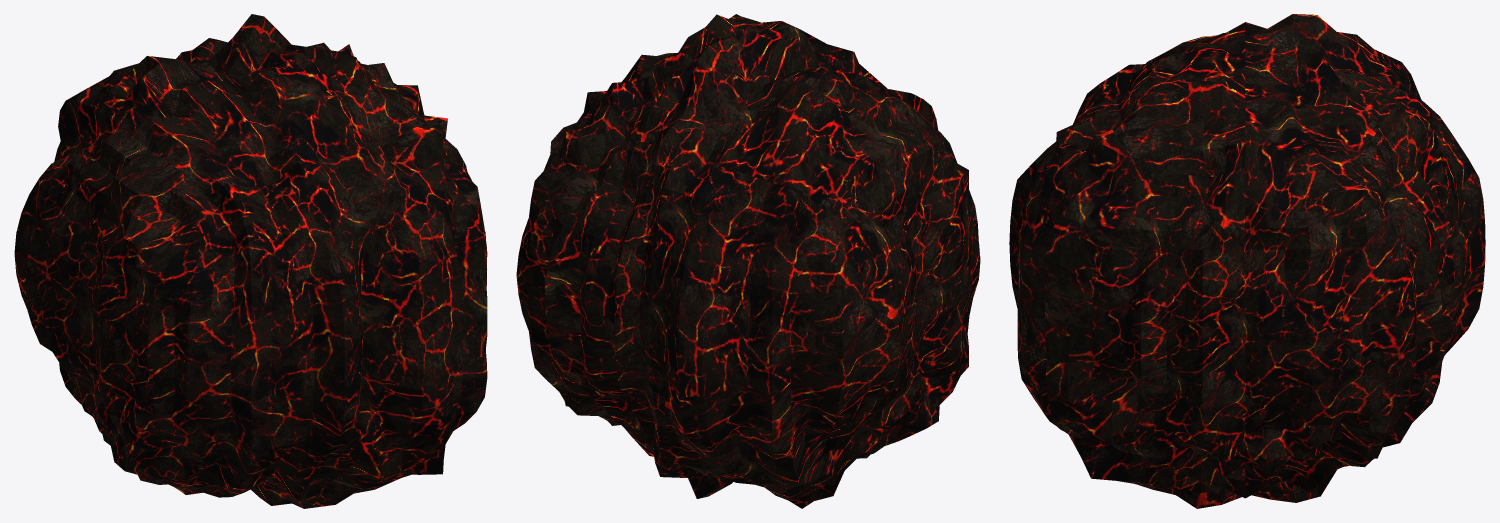
File: asteroid11.obj
3 views of the same model, side by side, from view 1: azimuth 30°, elevation 25°; view 2: azimuth 150°, elevation 25°; view 3: azimuth 270°, elevation 25° (orthographic). The views are drawn at different scales.
Parts seen in each view (by area): view 1: Cube_Cube.002; view 2: Cube_Cube.002; view 3: Cube_Cube.002.
Part boxes in pixels (left/top/right/bottom): Cube_Cube.002: left=14, top=14, right=487, bottom=508; Cube_Cube.002: left=516, top=14, right=980, bottom=508; Cube_Cube.002: left=1009, top=14, right=1485, bottom=508.
Size of the model in its own units: 1.68 by 1.93 by 1.82.
